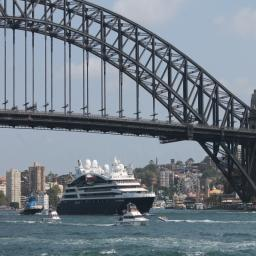cruises: (57, 156, 158, 221)
